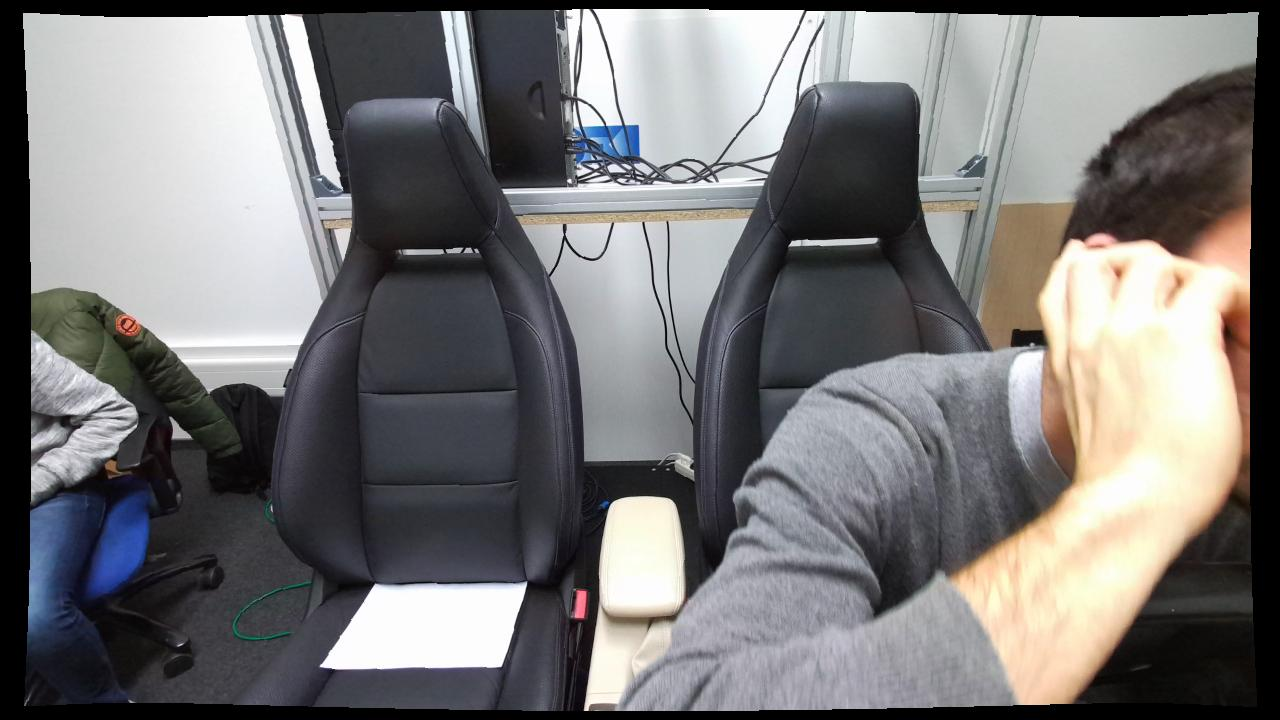Distracted: (621, 67, 1253, 709)
PhoneUse: (1004, 215, 1248, 420)
